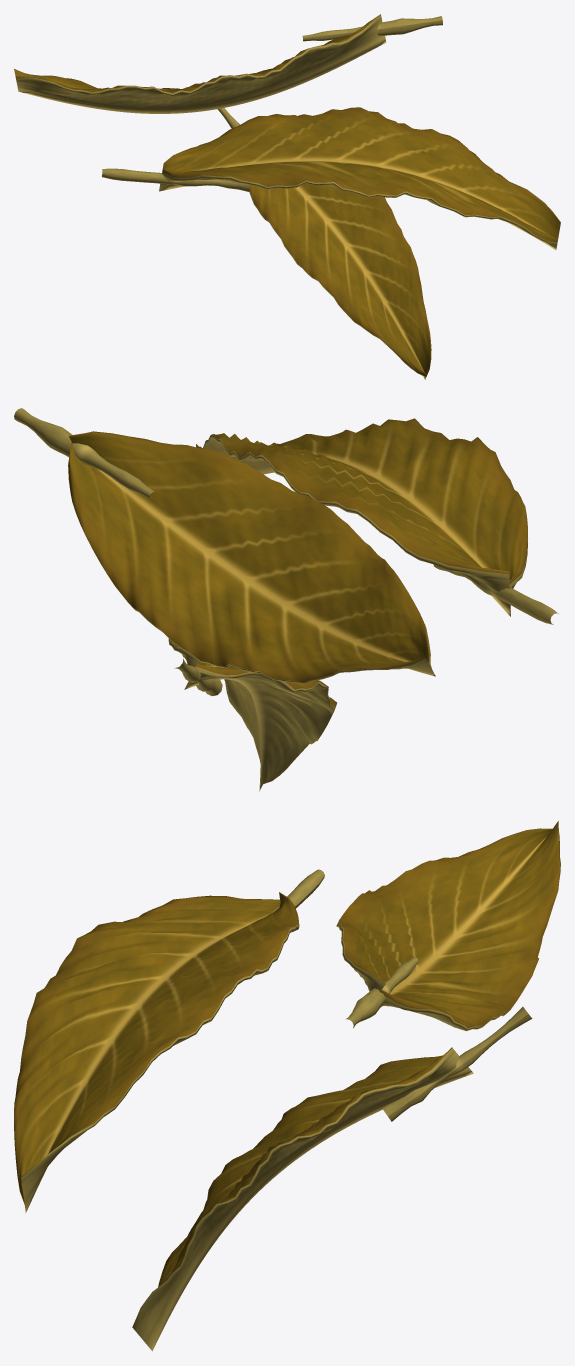
File: bay-leaves.glb
3 views of the same model, one above another, from view 1: azimuth 30°, elevation 25°; view 2: azimuth 150°, elevation 25°; view 3: azimuth 270°, elevation 25° (orthographic). The views are drawn at different scales.
Parts seen in each view (by area): view 1: bay-leaves-top, bay-leaves-underside; view 2: bay-leaves-top, bay-leaves-underside; view 3: bay-leaves-top, bay-leaves-underside.
Part boxes in pixels (x1,y1,x2,y2): bay-leaves-top: [14, 14, 560, 376]; bay-leaves-underside: [16, 15, 557, 379]; bay-leaves-top: [68, 418, 527, 706]; bay-leaves-underside: [14, 408, 558, 791]; bay-leaves-top: [14, 821, 560, 1327]; bay-leaves-underside: [17, 869, 532, 1351].
Bounding box in the file's own units: 0.0961 × 0.0764 × 0.0952.
2 materials, 2 textured.
